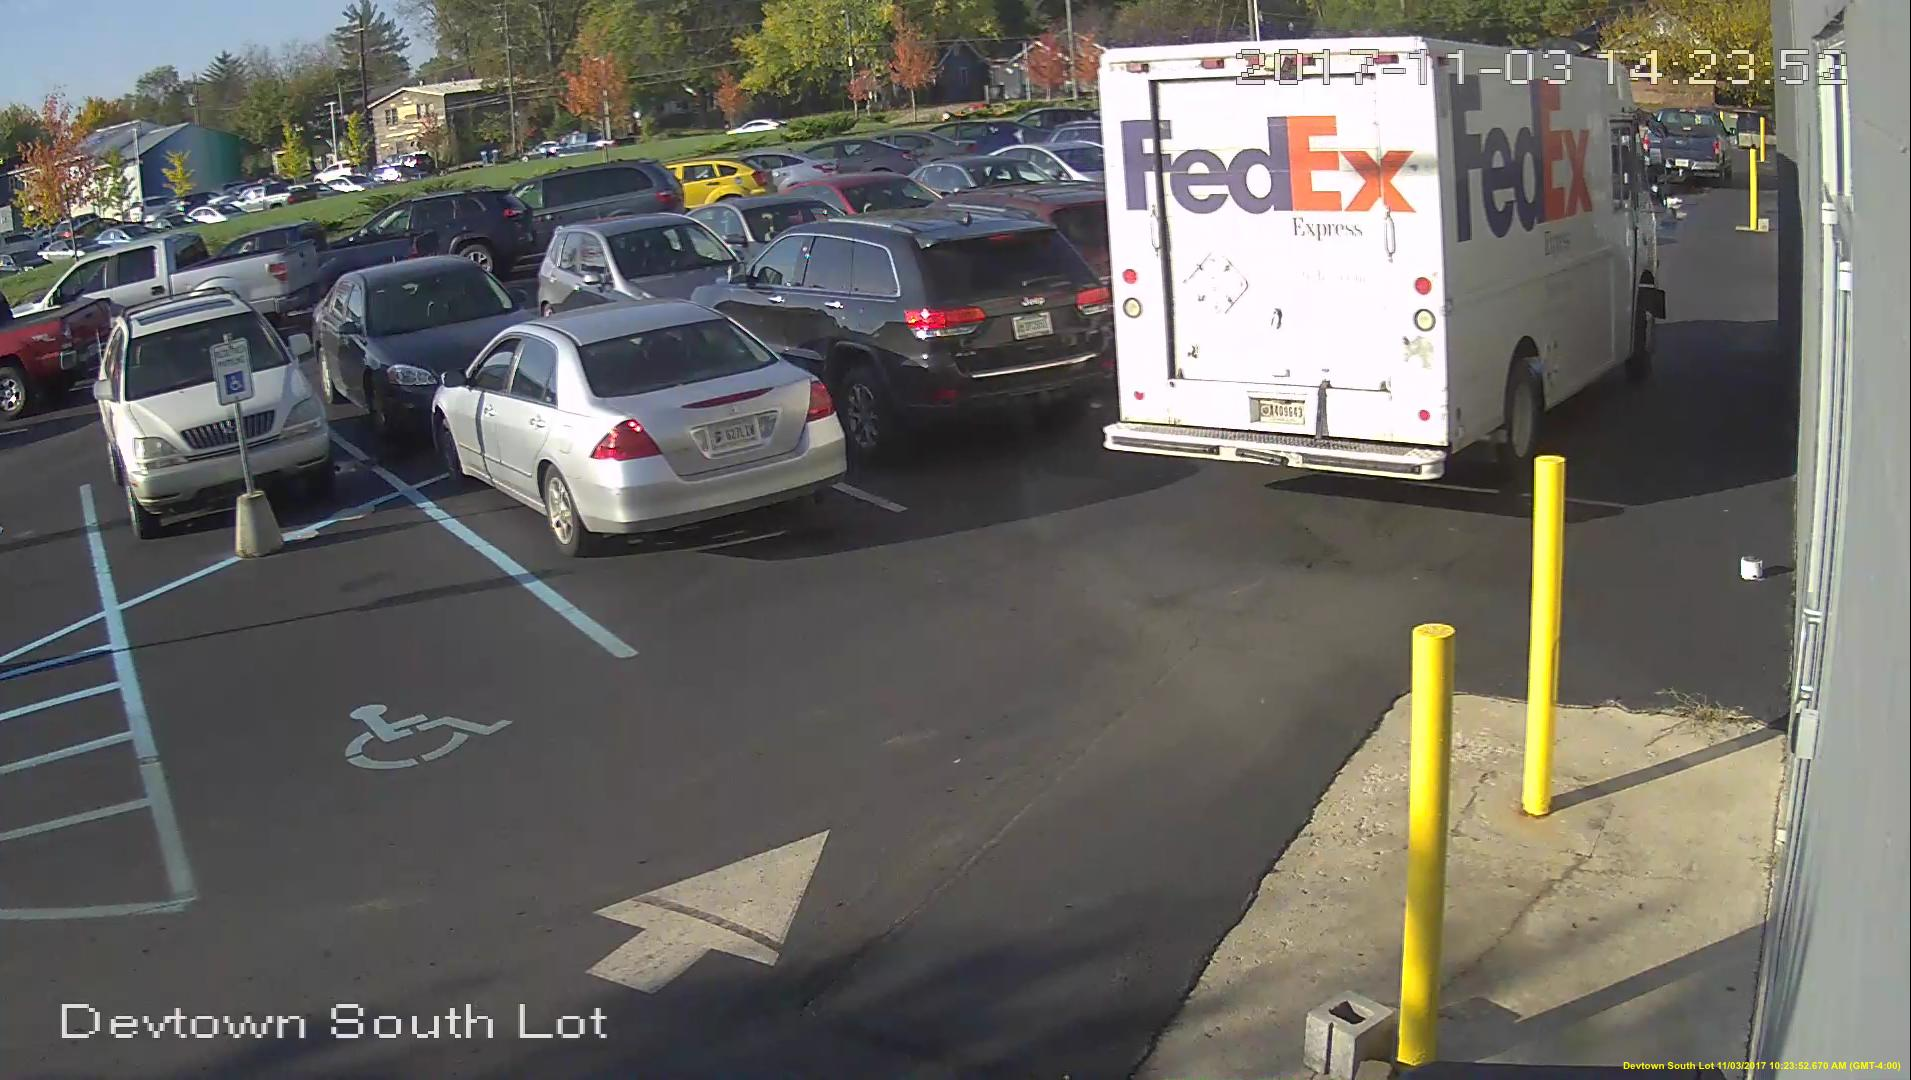fedex_truck: (1097, 31, 1677, 491)
